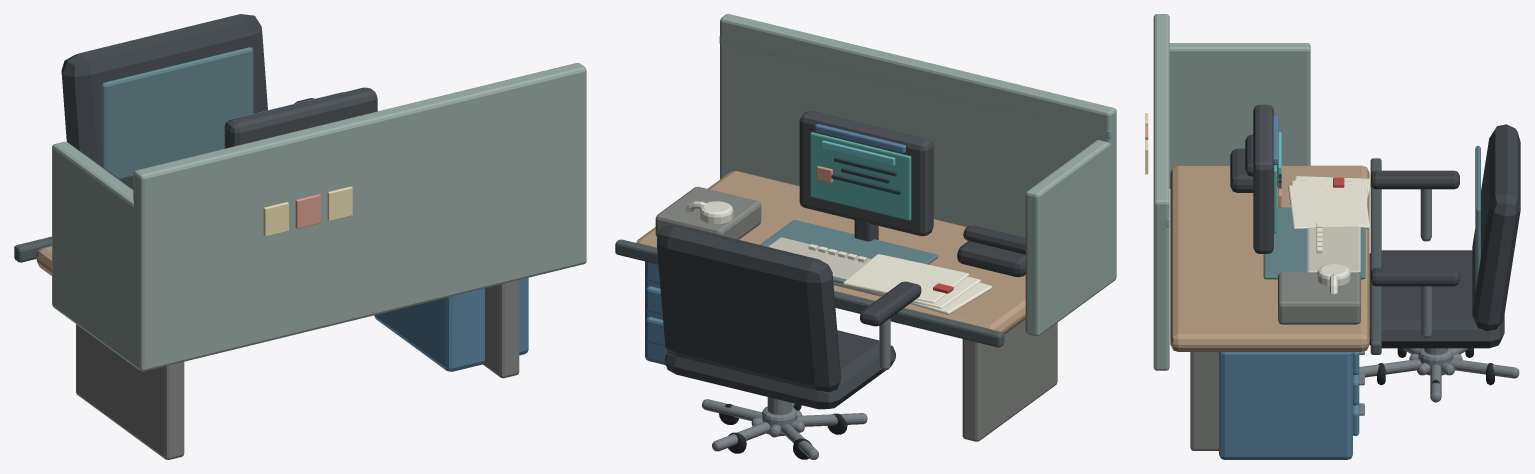
The model's file is office_workstation.glb.
3 views of the same model, side by side, from view 1: azimuth 30°, elevation 25°; view 2: azimuth 150°, elevation 25°; view 3: azimuth 270°, elevation 25° (orthographic). The views are drawn at different scales.
Visible parts, largest first — view 1: CubicleBack, ChairSeat, CubicleWing_L, DeskLeg_L, DrawerPedestal, Monitor, Memo_A, Memo_B, DeskFrontTrim; view 2: CubicleBack, ChairSeat, CubicleWing_L, DeskSurface, DeskLeg_L, Monitor, Screen, ClaimFile_0, DeskFrontTrim, ClaimTray, DeskMat, DrawerPedestal (+7 smaller); view 3: ChairSeat, DeskSurface, CubicleWing_L, DrawerPedestal, CubicleBack, ClaimTray, ClaimFile_0, Monitor, DeskLeg_L, DeskMat, Keyboard, DeskFrontTrim (+2 smaller).
Part boxes in pixels (bbox=[...]): CubicleBack: bbox=[133, 63, 586, 371]; ChairSeat: bbox=[61, 14, 314, 190]; CubicleWing_L: bbox=[52, 141, 136, 368]; DeskLeg_L: bbox=[76, 280, 519, 459]; DrawerPedestal: bbox=[243, 92, 528, 371]; Monitor: bbox=[224, 87, 377, 148]; Memo_A: bbox=[263, 186, 352, 236]; Memo_B: bbox=[295, 194, 320, 228]; DeskFrontTrim: bbox=[14, 236, 51, 262]; CubicleBack: bbox=[720, 14, 1116, 281]; ChairSeat: bbox=[657, 225, 921, 459]; CubicleWing_L: bbox=[1025, 140, 1113, 336]; DeskSurface: bbox=[636, 171, 1025, 334]; DeskLeg_L: bbox=[962, 320, 1057, 441]; Monitor: bbox=[799, 111, 933, 241]; Screen: bbox=[810, 132, 911, 220]; ClaimFile_0: bbox=[843, 254, 992, 314]; DeskFrontTrim: bbox=[615, 239, 1004, 347]; ClaimTray: bbox=[655, 186, 761, 239]; DeskMat: bbox=[760, 220, 938, 283]; DrawerPedestal: bbox=[645, 124, 905, 364]; ChairSeat: bbox=[1359, 124, 1520, 402]; DeskSurface: bbox=[1170, 165, 1369, 351]; CubicleWing_L: bbox=[1169, 43, 1310, 188]; DrawerPedestal: bbox=[1219, 115, 1359, 459]; CubicleBack: bbox=[1153, 14, 1169, 370]; ClaimTray: bbox=[1278, 272, 1360, 324]; ClaimFile_0: bbox=[1288, 176, 1370, 229]; Monitor: bbox=[1253, 104, 1273, 253]; DeskLeg_L: bbox=[1190, 352, 1218, 450]; DeskMat: bbox=[1263, 207, 1365, 279]; Keyboard: bbox=[1307, 223, 1361, 279]; DeskFrontTrim: bbox=[1370, 158, 1381, 354].
Size of the model in its own units: 2.8 by 1.87 by 2.35.
